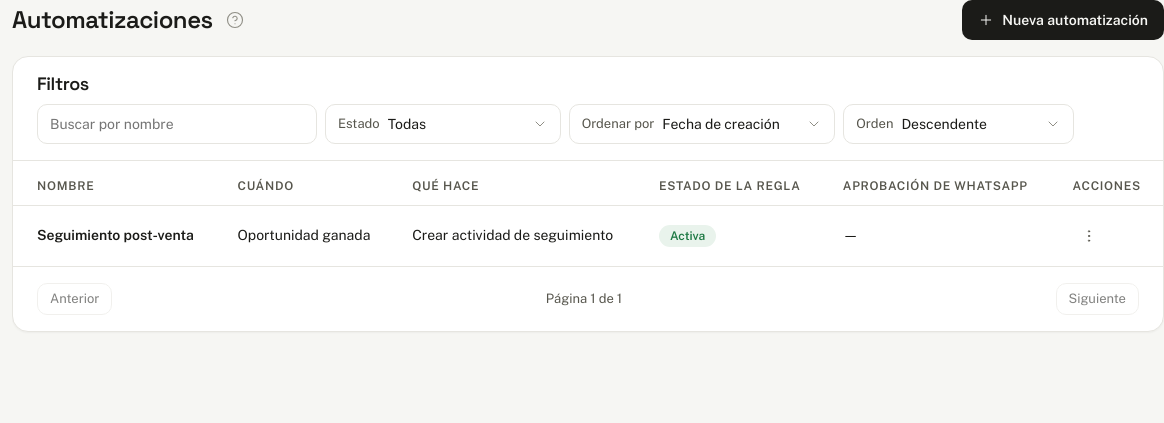
Test: AutomationListPage › eliminar › un DELETE fallido muestra el mensaje del backend tal cual, y la fila sigue ahí
Expected: the text "Seguimiento post-venta" is shown, 13,205 -> 222,266
Step 1. Click the button named "Más acciones" → (1088, 236), box 1072,220 -> 1104,252
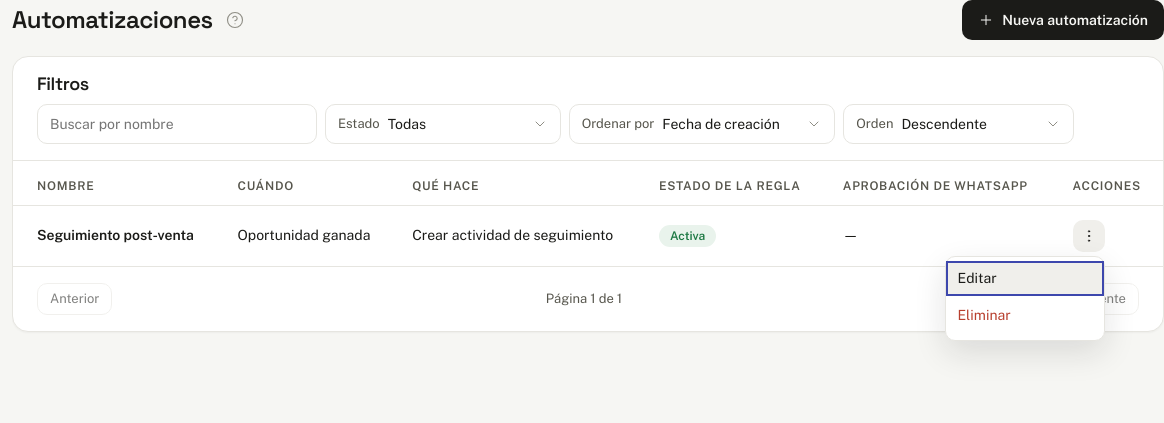
Step 2. Click the menu item "Eliminar" → (1024, 316), box 946,296 -> 1104,336
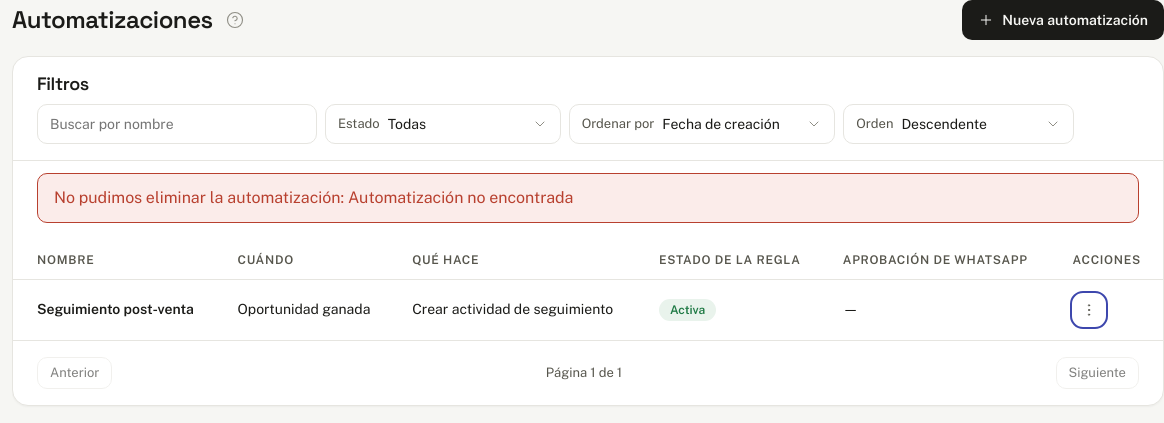
Expected: the text "Seguimiento post-venta" is shown, 13,279 -> 222,340
Expected: the message shows "Automatización no encontrada", 340,188 -> 574,206
